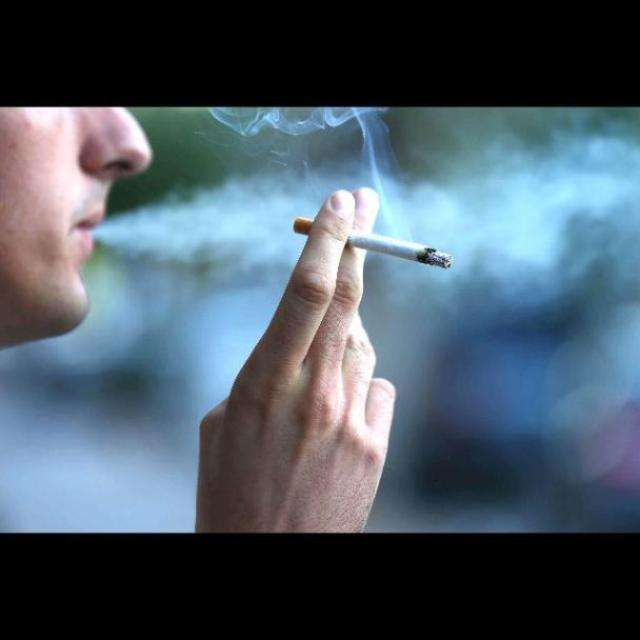rokok: (286, 210, 456, 278)
